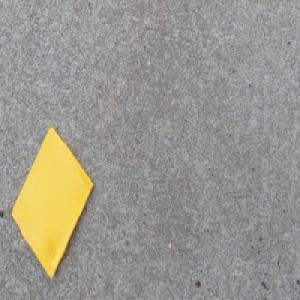PlasticPart: (11, 125, 95, 281)
